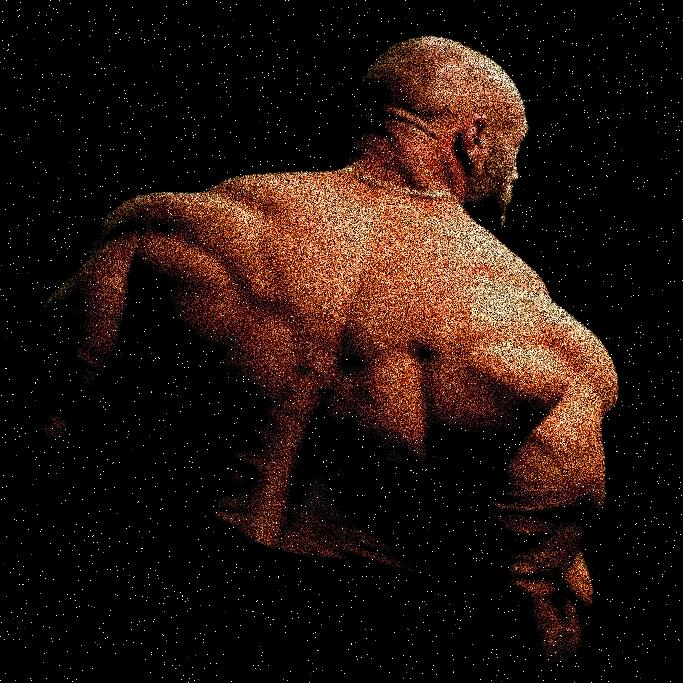Pessoa: (267, 0, 475, 682)
